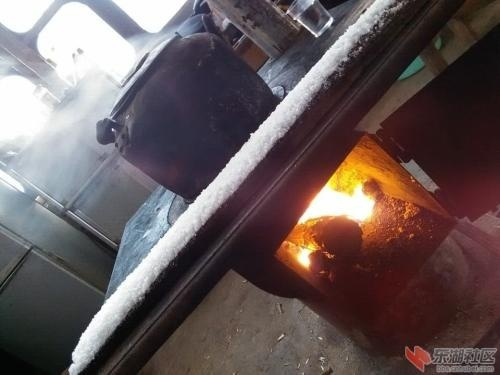fire: (294, 173, 380, 225)
